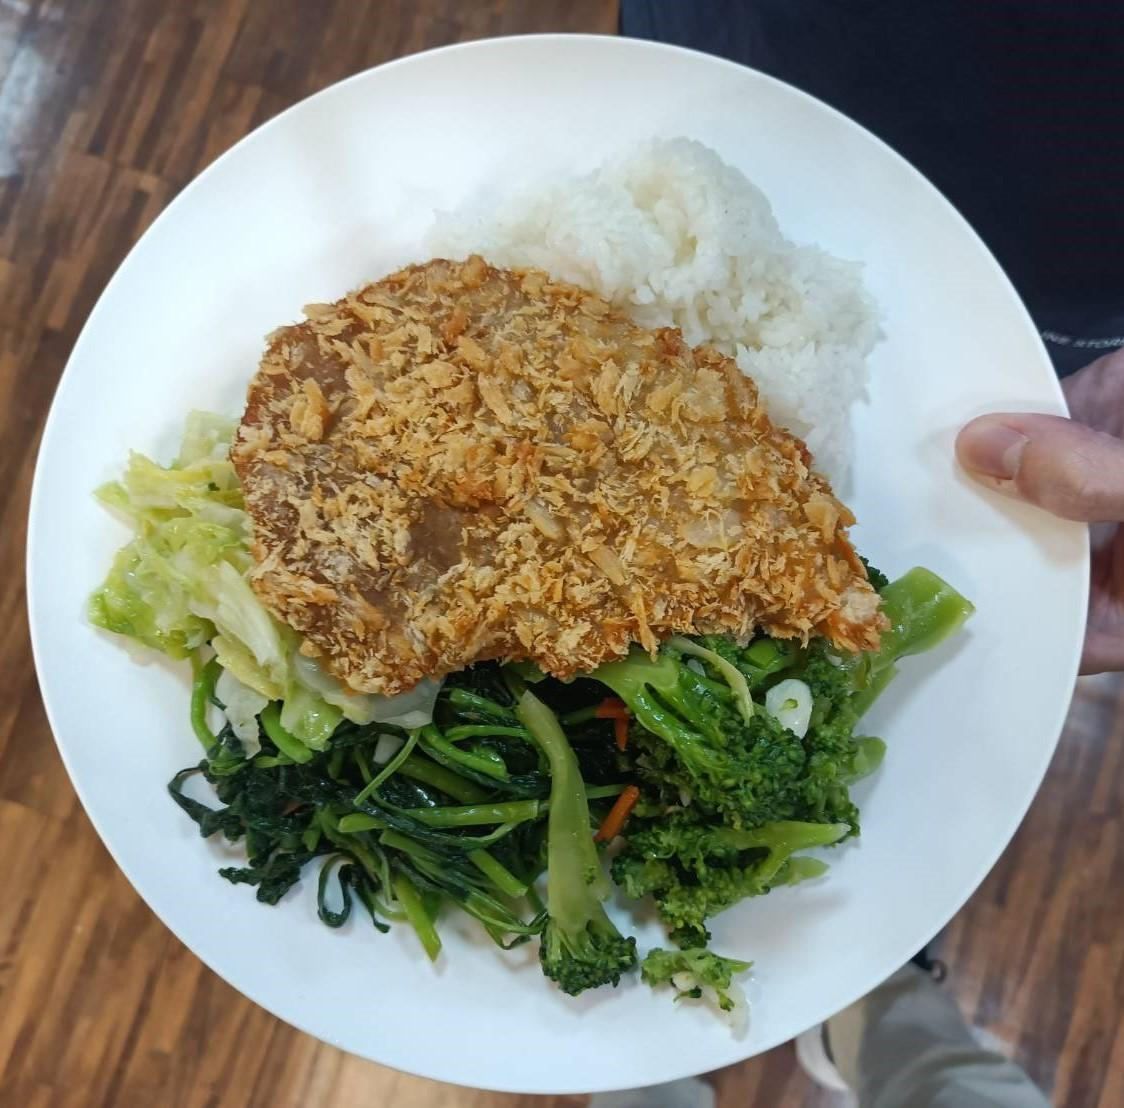big fried chicken leg: (25, 28, 1104, 1090)
big herbal chicken leg: (402, 133, 875, 574)
braised fish fillet: (585, 663, 931, 1006), (248, 690, 558, 938), (85, 433, 256, 745)
braised pork: (248, 288, 856, 659)
